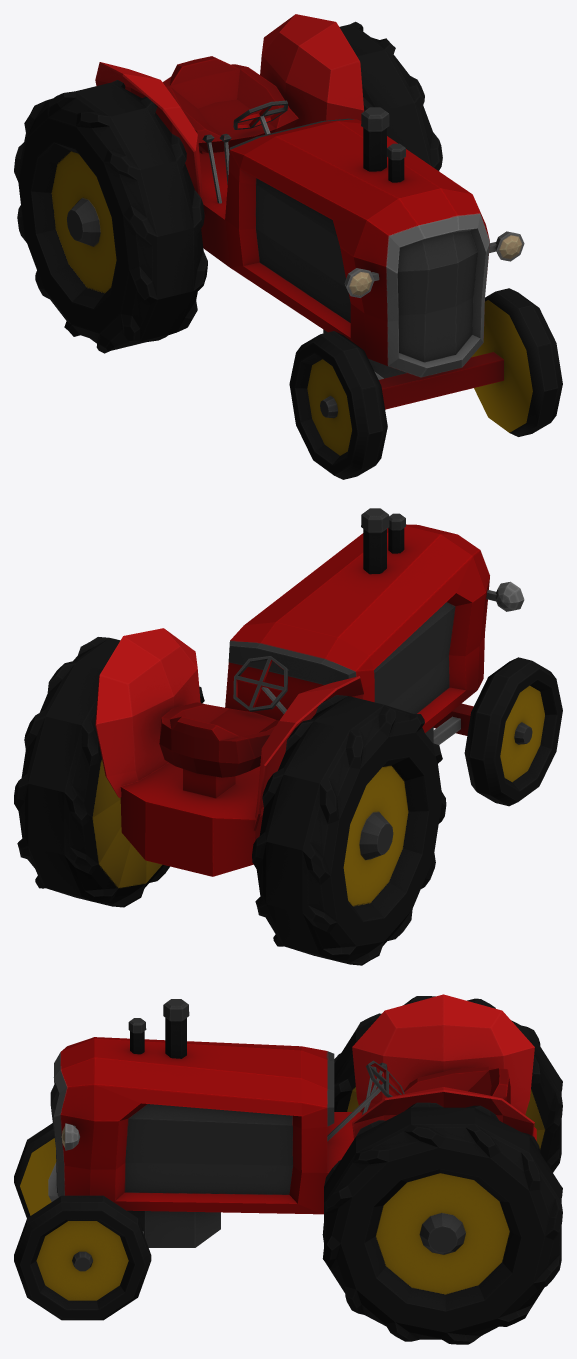
Rendered from trekkertest.glb.
3 renders of one model, top to bottom at view 1: azimuth 30°, elevation 25°; view 2: azimuth 150°, elevation 25°; view 3: azimuth 270°, elevation 25°, orthographic. The views are drawn at different scales.
Parts seen in each view (by area): view 1: node-0; view 2: node-0; view 3: node-0.
Part boxes in pixels (x1,y1,x2,y2): node-0: [14, 14, 562, 479]; node-0: [14, 508, 562, 965]; node-0: [14, 994, 562, 1344].
Bounding box in the file's own units: 9.35 × 8.62 × 15.49.
1 material, 1 textured.
